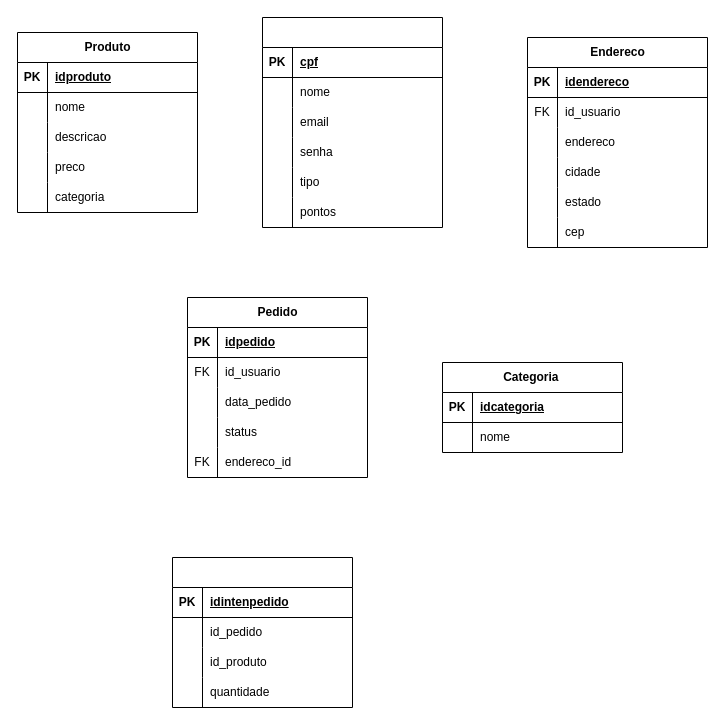
Some shapes in this 725 by 725 pixel diagram are drawn without their labels. Each missing label, with the box of its shape:
Itenpedido: (172, 556, 352, 708)
Usuario: (262, 16, 442, 228)
